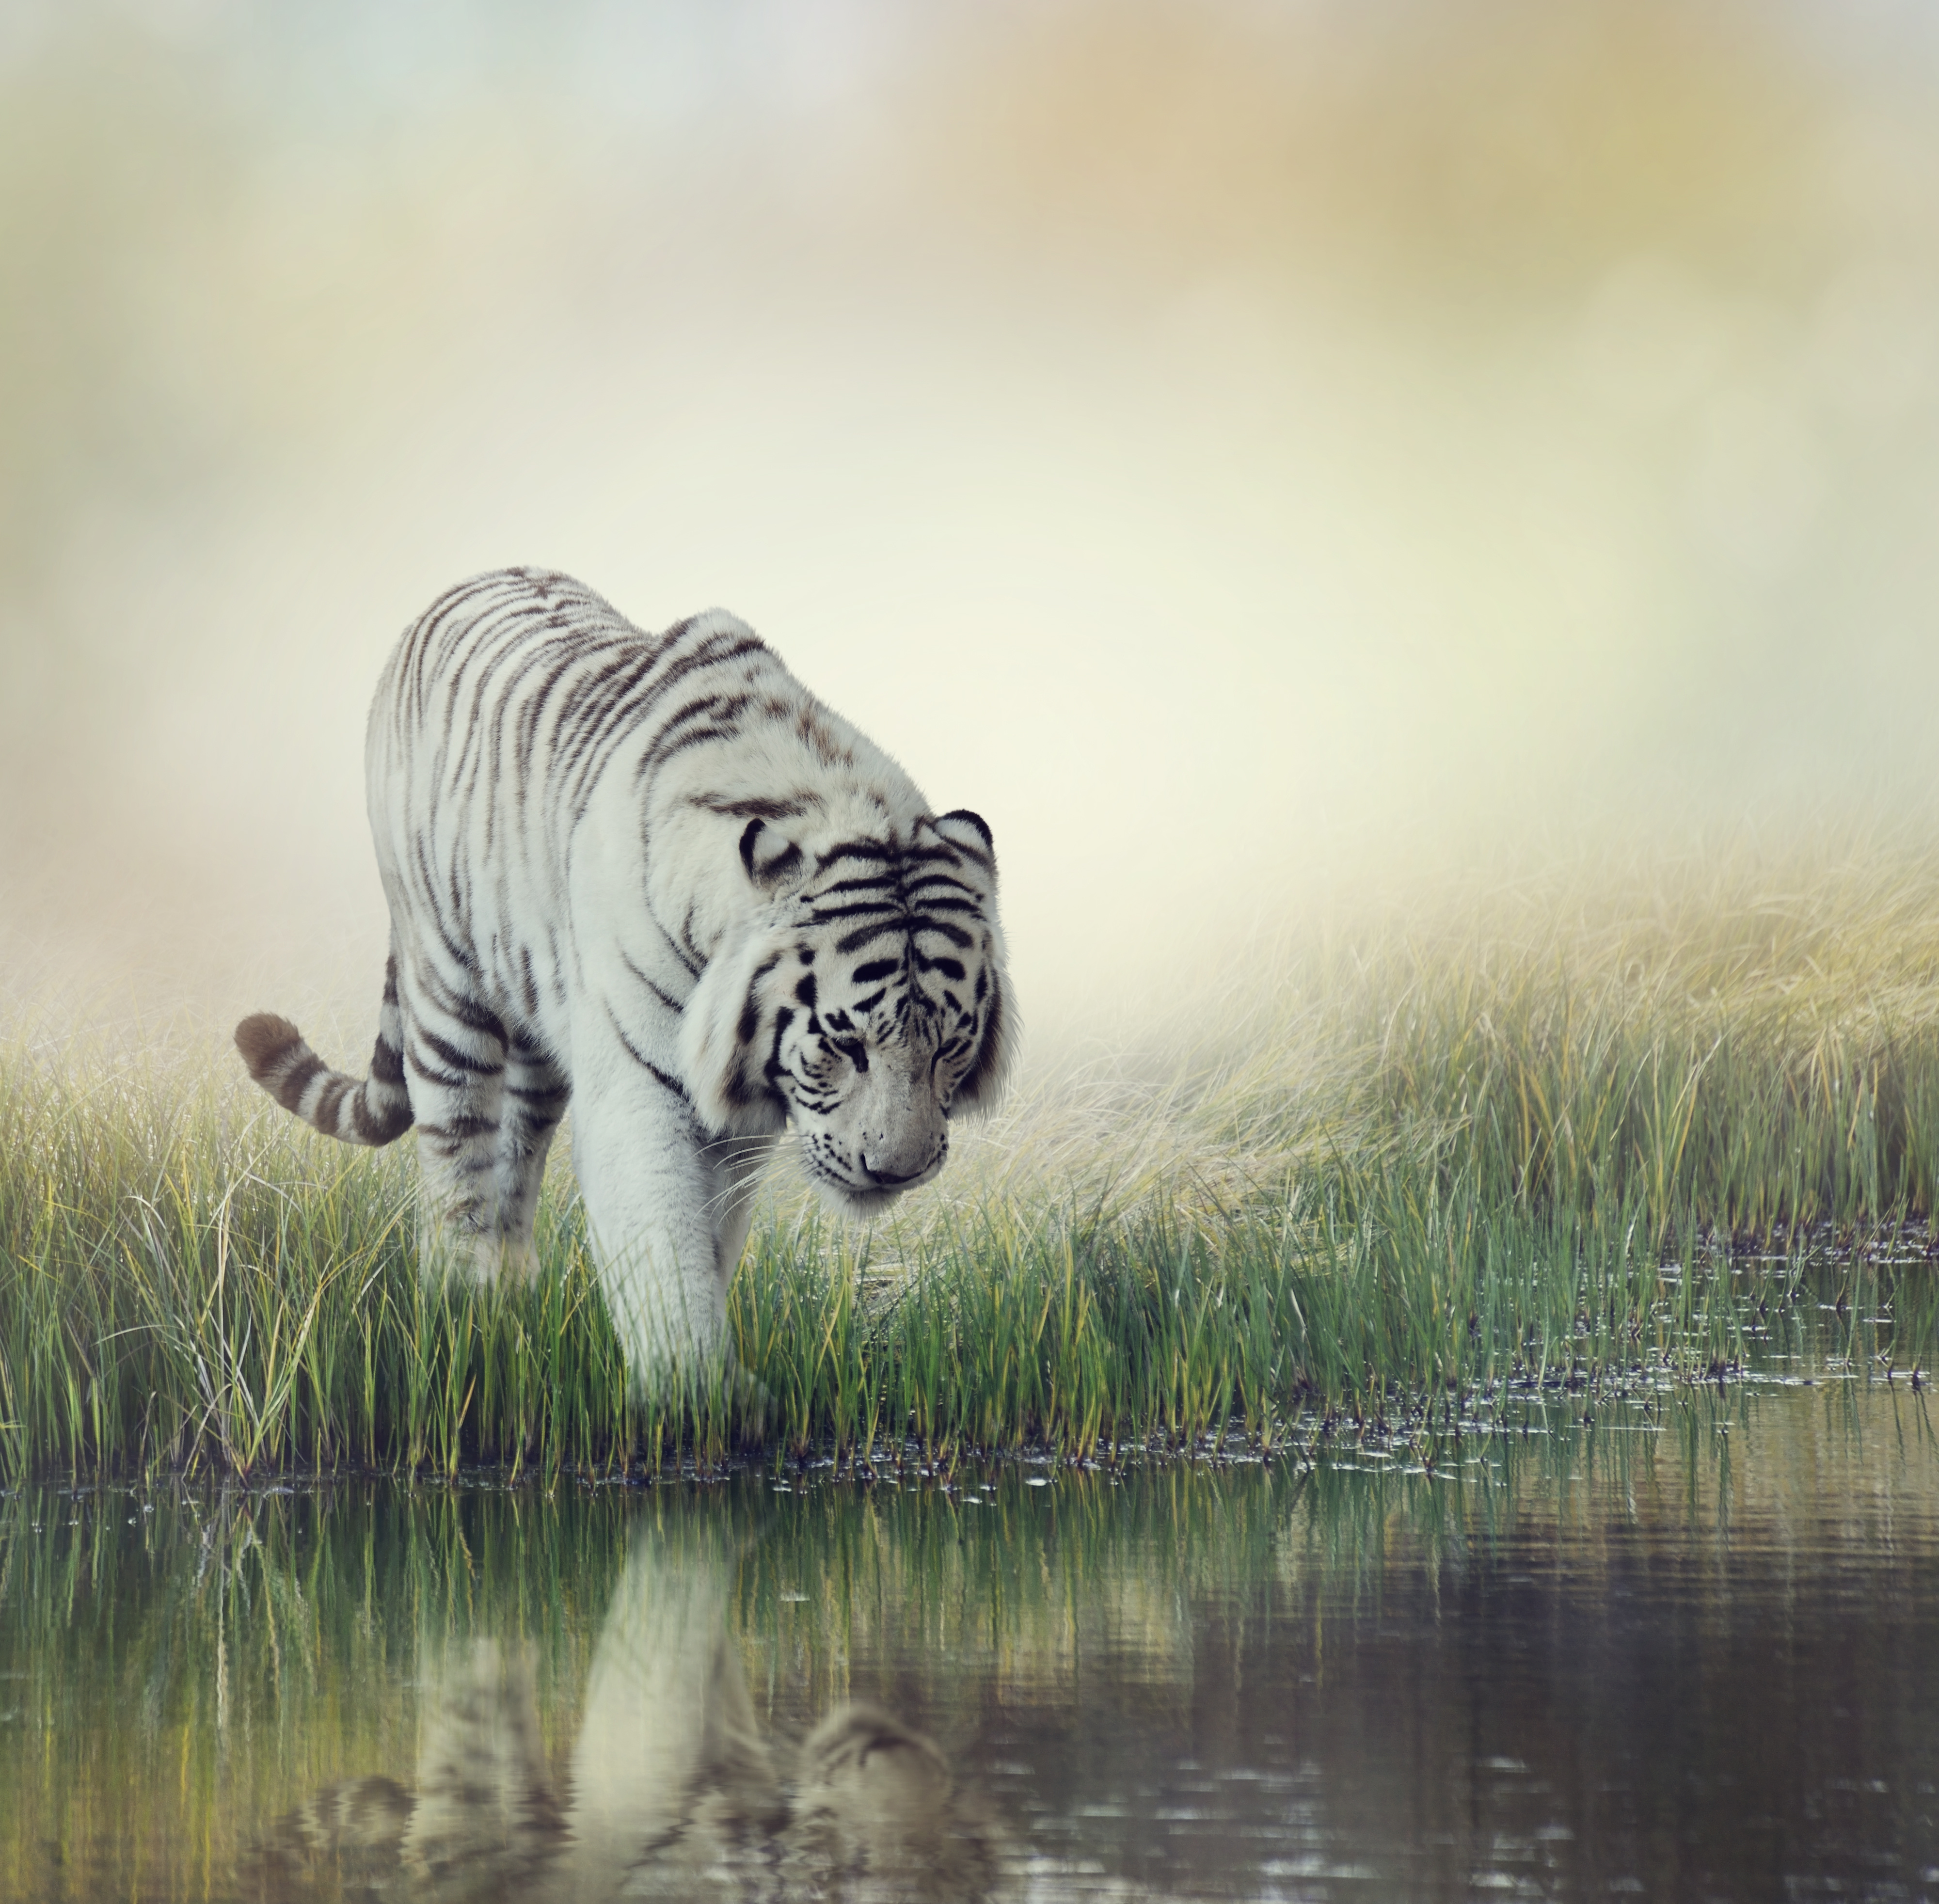tiger: (289, 560, 1085, 1423)
